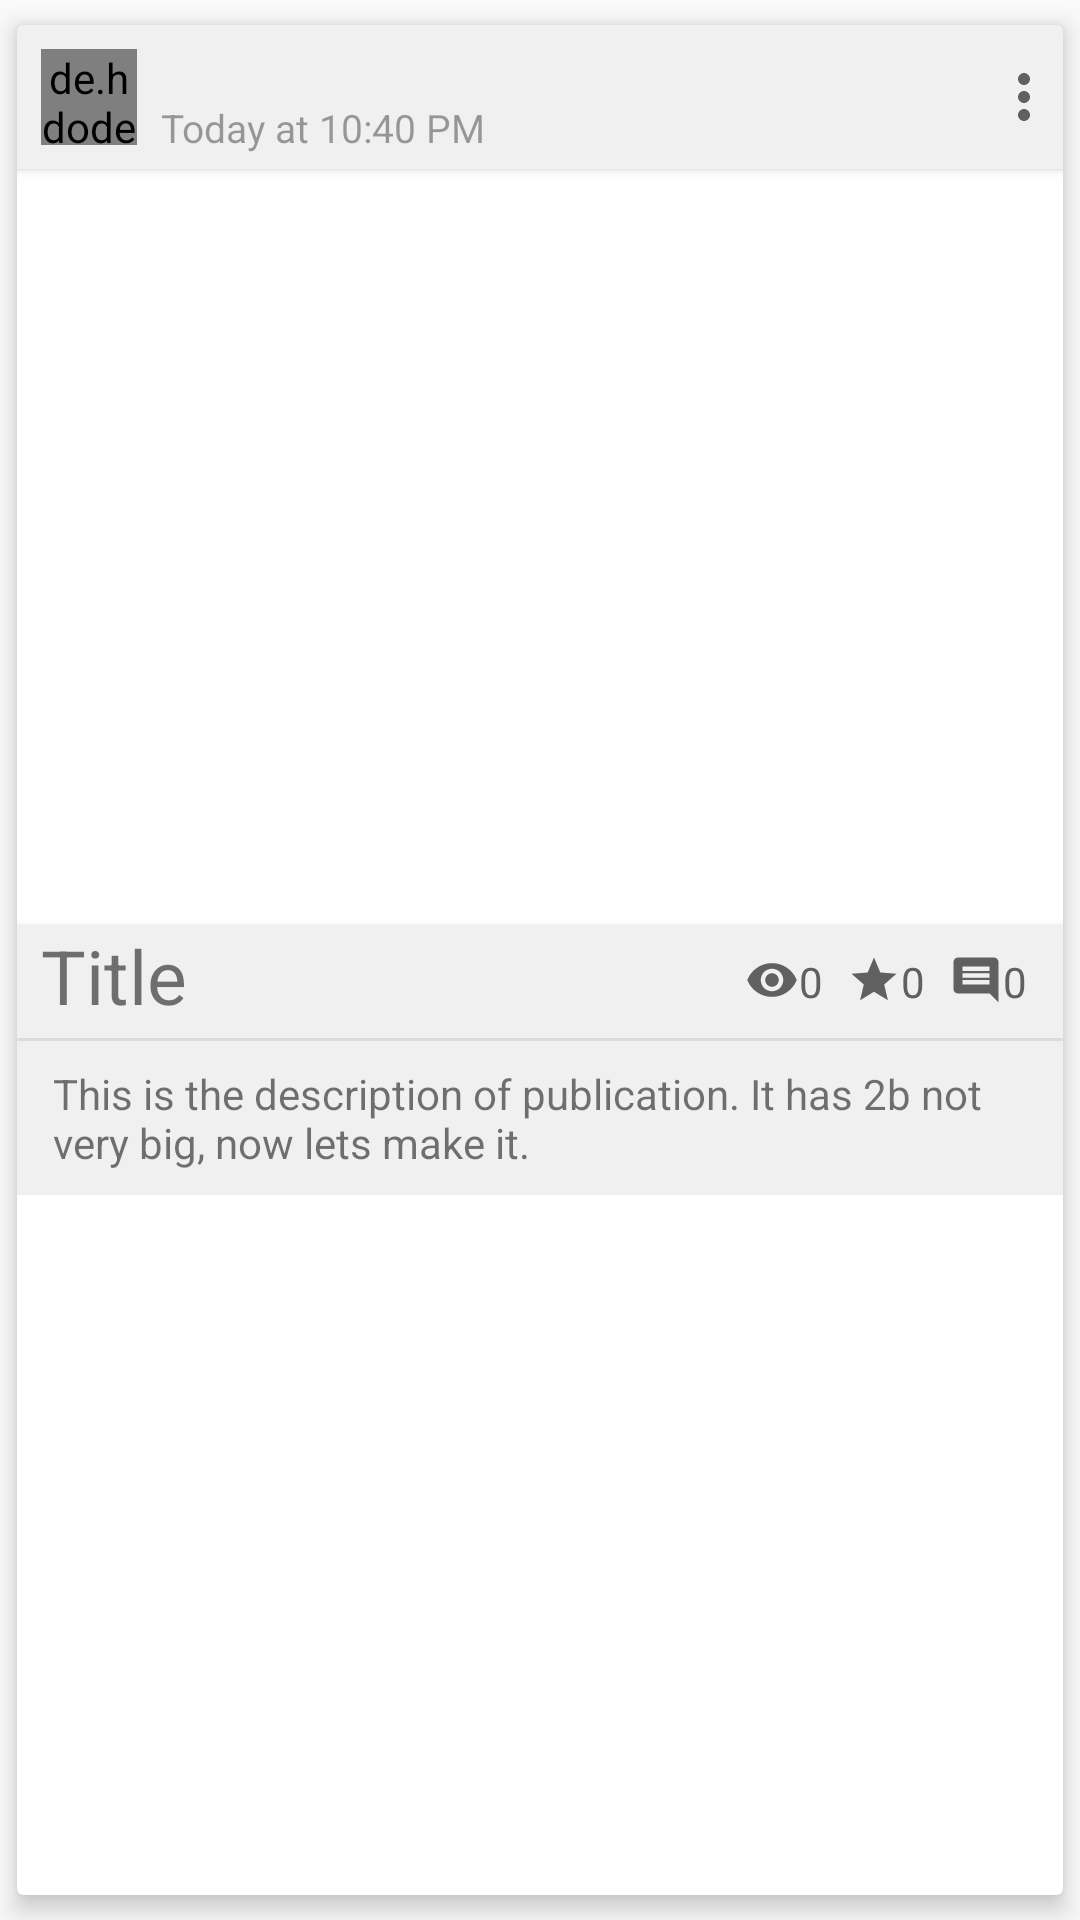

Where to tap for icons on this 1080w x 1920h app screen, as point (x, y):
card more: point (1024, 97)
comment: point (976, 979)
star: point (874, 979)
visibility: point (772, 980)
